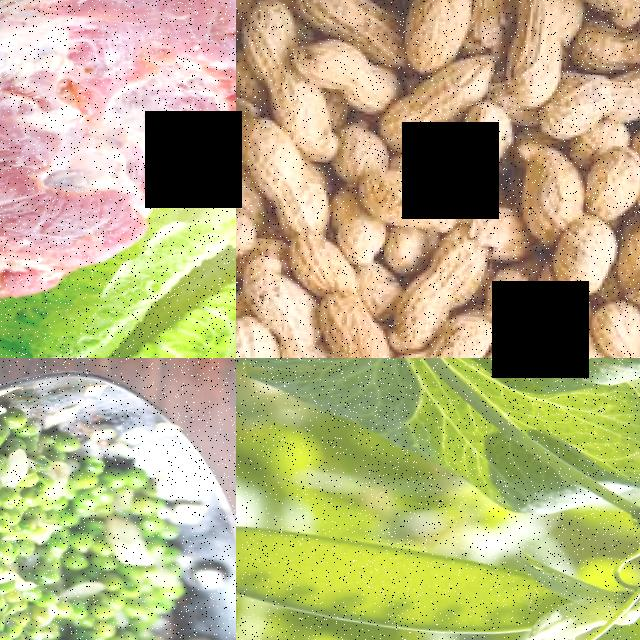peanuts: (518, 134, 592, 230), (503, 0, 570, 104), (244, 131, 331, 211), (362, 160, 465, 227), (300, 31, 392, 105), (554, 54, 640, 124), (322, 283, 401, 358), (287, 225, 361, 300), (555, 205, 621, 286), (400, 0, 476, 61), (584, 133, 640, 210), (420, 304, 498, 358), (482, 315, 567, 358), (236, 181, 260, 264), (621, 208, 640, 293)
peas: (0, 432, 67, 640)
pork belly: (0, 0, 236, 133)
